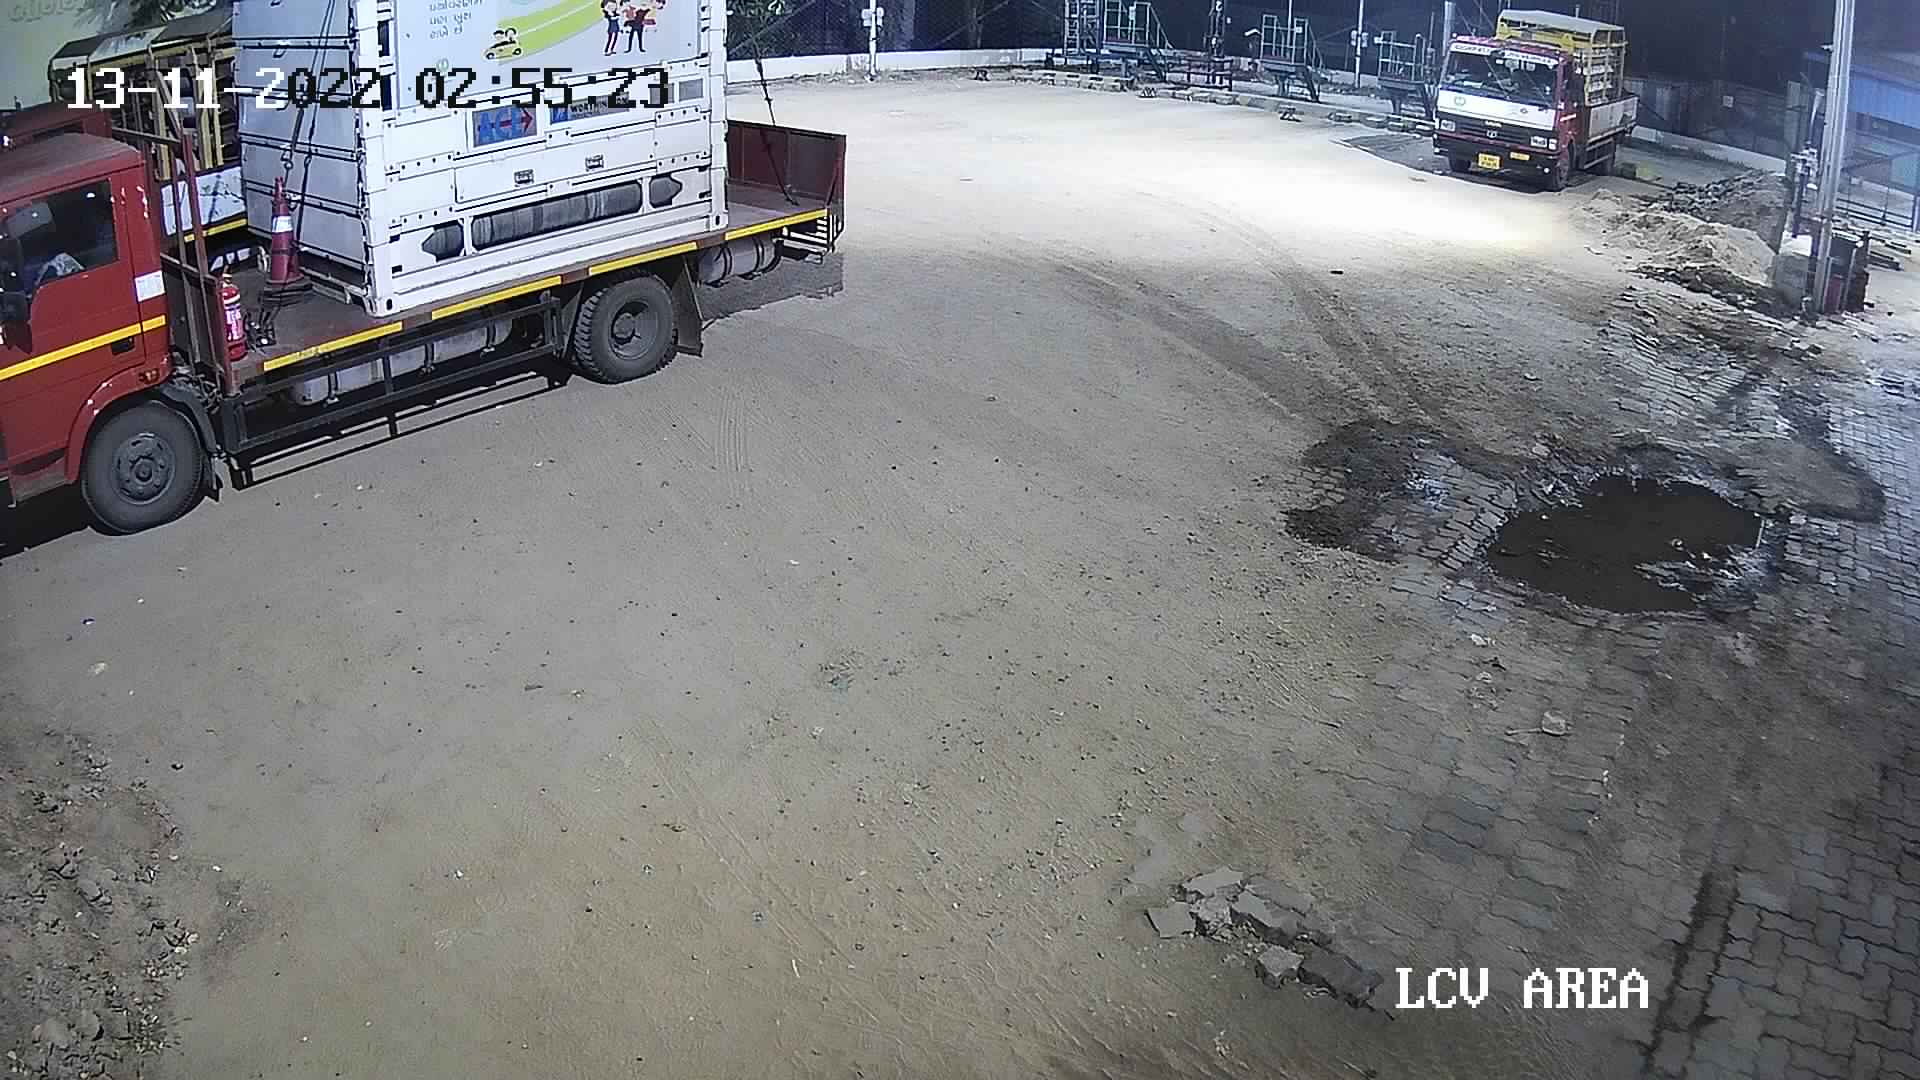HMV: (1, 0, 855, 545), (1, 1, 260, 274), (1414, 0, 1658, 194)
